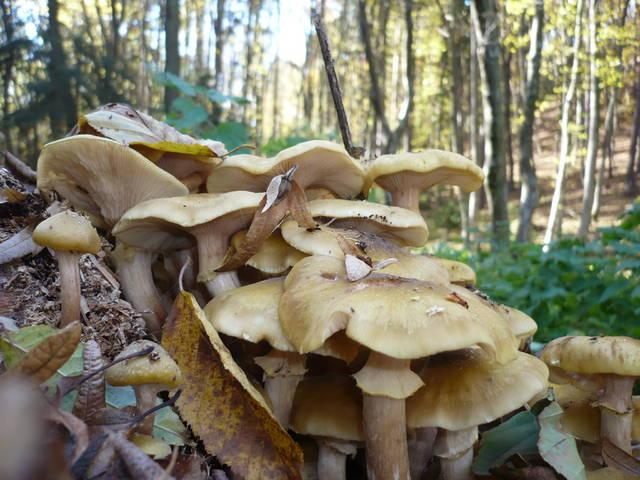edible_mushroom: (25, 102, 637, 478)
